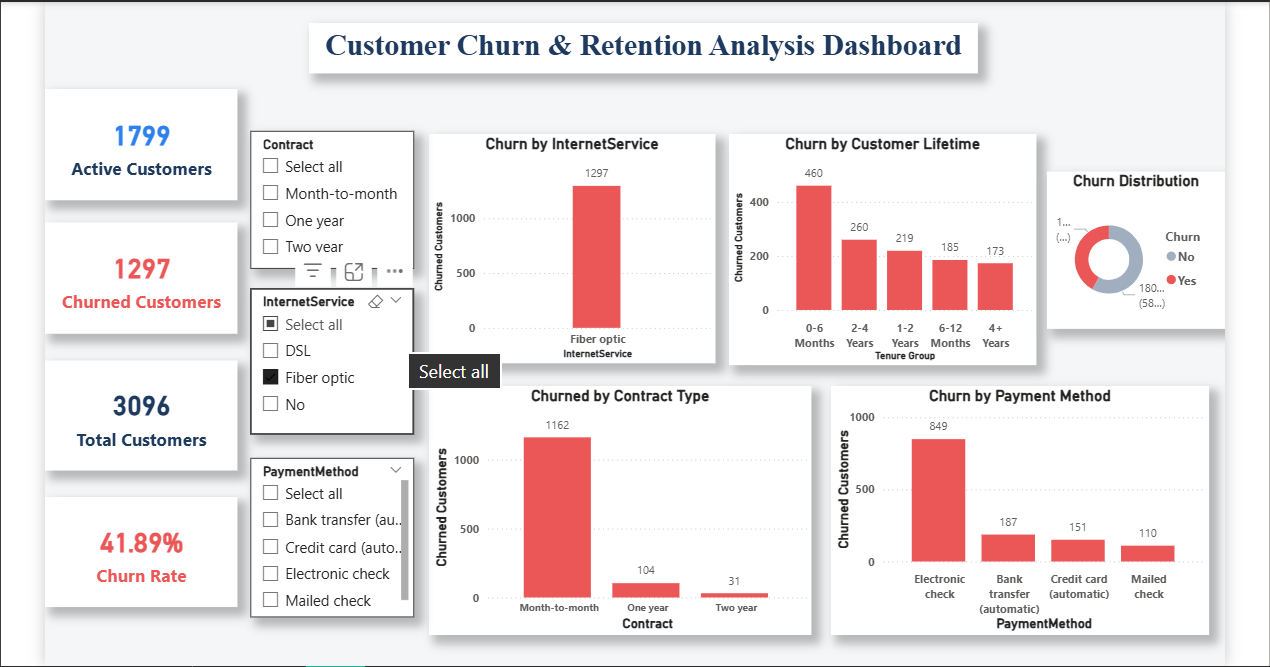

The page's visual inventory and layout, read from the dashboard file:
{"tool":"powerbi","page":{"name":"Page 1","canvas":[1280,720],"ordinal":0},"visuals":[{"type":"card","fields":{"Values":["telco_churn.Total Customers"]},"box":[0,389.3,208.7,119.3],"z":0},{"type":"card","fields":{"Values":["telco_churn.Churned Customers"]},"box":[0,238.5,208.7,120.9],"z":1000},{"type":"card","fields":{"Values":["telco_churn.Active Customers"]},"box":[0,94.4,208.7,120.9],"z":2000},{"type":"card","fields":{"Values":["telco_churn.Churn Rate"]},"box":[0,536.7,208.7,119.3],"z":3000},{"type":"clusteredColumnChart","title":"Churned by Contract Type","fields":{"Category":["telco_churn.Contract"],"Y":["telco_churn.Churned Customers"]},"box":[416.4,416.4,414.8,270],"z":4000},{"type":"clusteredColumnChart","title":"Churn by InternetService","fields":{"Category":["telco_churn.InternetService"],"Y":["telco_churn.Churned Customers"]},"box":[416.4,143.1,310.7,248.9],"z":4001},{"type":"clusteredColumnChart","title":"Churn by Customer Lifetime","fields":{"Category":["telco_churn.Tenure Group"],"Y":["telco_churn.Churned Customers"]},"box":[741.7,143.1,333.4,250.5],"z":4002},{"type":"clusteredColumnChart","title":"Churn by Payment Method","fields":{"Category":["telco_churn.PaymentMethod"],"Y":["telco_churn.Churned Customers"]},"box":[852.3,416.4,409.9,270],"z":4003},{"type":"slicer","fields":{"Values":["telco_churn.Contract"]},"box":[222.8,139.9,177.3,149.6],"z":4004},{"type":"slicer","fields":{"Values":["telco_churn.InternetService"]},"box":[222.8,310.7,177.3,157.8],"z":4005},{"type":"slicer","fields":{"Values":["telco_churn.PaymentMethod"]},"box":[222.8,494.5,177.3,172.4],"z":4006},{"type":"textbox","box":[286.6,23.2,725.5,54.7],"z":4007},{"type":"donutChart","title":"Churn Distribution","fields":{"Y":["CountNonNull(telco_churn.customerID)"],"Category":["telco_churn.Churn"]},"box":[1086.5,183.8,193.6,170.8],"z":4008}]}

Visuals, with their boxes in screenshot pixels (x1, y1, x2, y2):
card - telco_churn.Total Customers: BBox(43, 336, 234, 446)
card - telco_churn.Churned Customers: BBox(43, 198, 234, 309)
card - telco_churn.Active Customers: BBox(43, 67, 234, 177)
card - telco_churn.Churn Rate: BBox(43, 471, 234, 580)
"Churned by Contract Type" clusteredColumnChart: BBox(424, 361, 804, 608)
"Churn by InternetService" clusteredColumnChart: BBox(424, 111, 708, 339)
"Churn by Customer Lifetime" clusteredColumnChart: BBox(722, 111, 1027, 340)
"Churn by Payment Method" clusteredColumnChart: BBox(823, 361, 1198, 608)
slicer - telco_churn.Contract: BBox(247, 108, 409, 245)
slicer - telco_churn.InternetService: BBox(247, 264, 409, 409)
slicer - telco_churn.PaymentMethod: BBox(247, 433, 409, 590)
textbox: BBox(305, 1, 969, 51)
"Churn Distribution" donutChart: BBox(1037, 148, 1214, 305)
